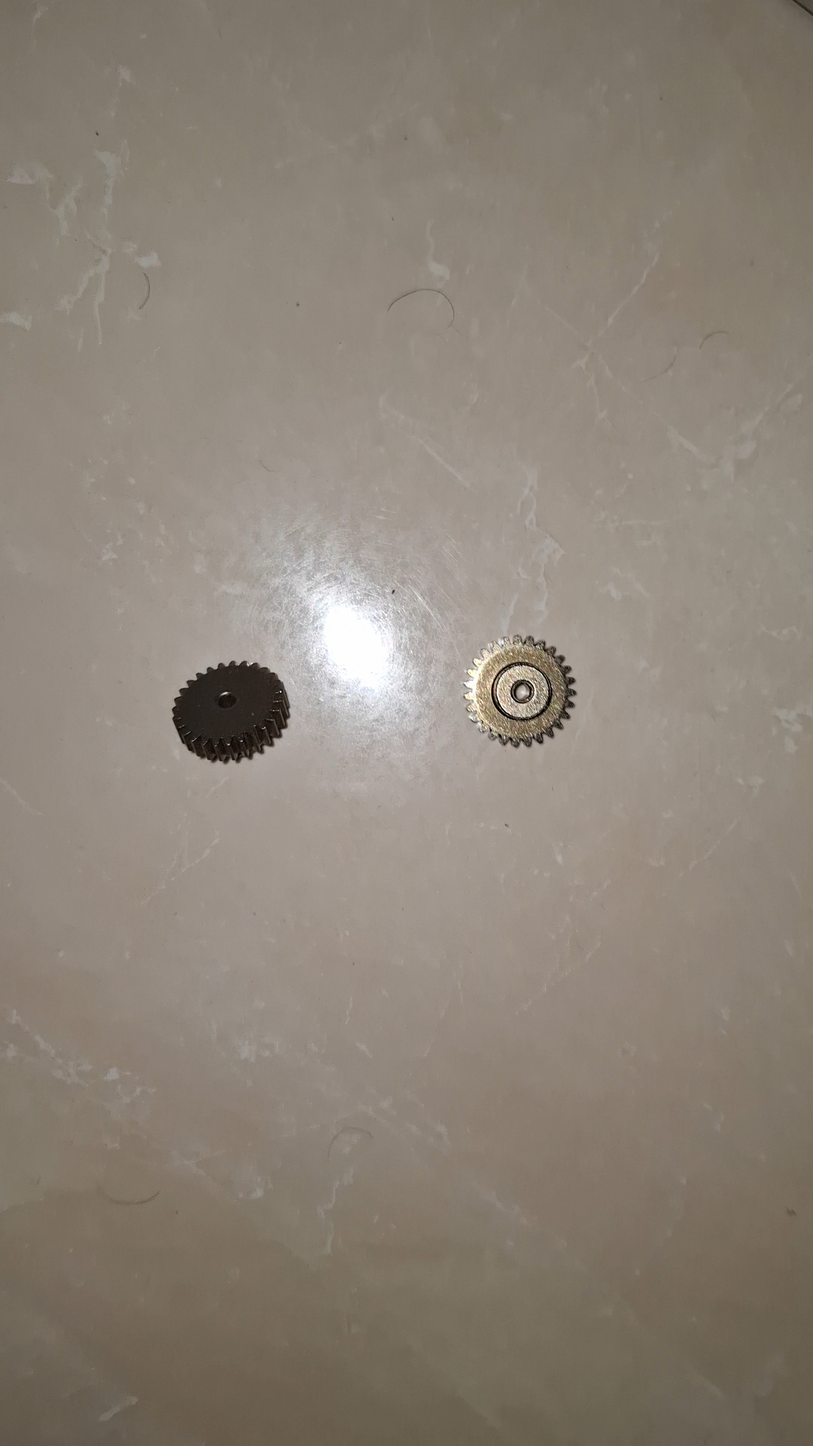spur gear: (464, 635, 575, 746), (173, 662, 289, 761)
